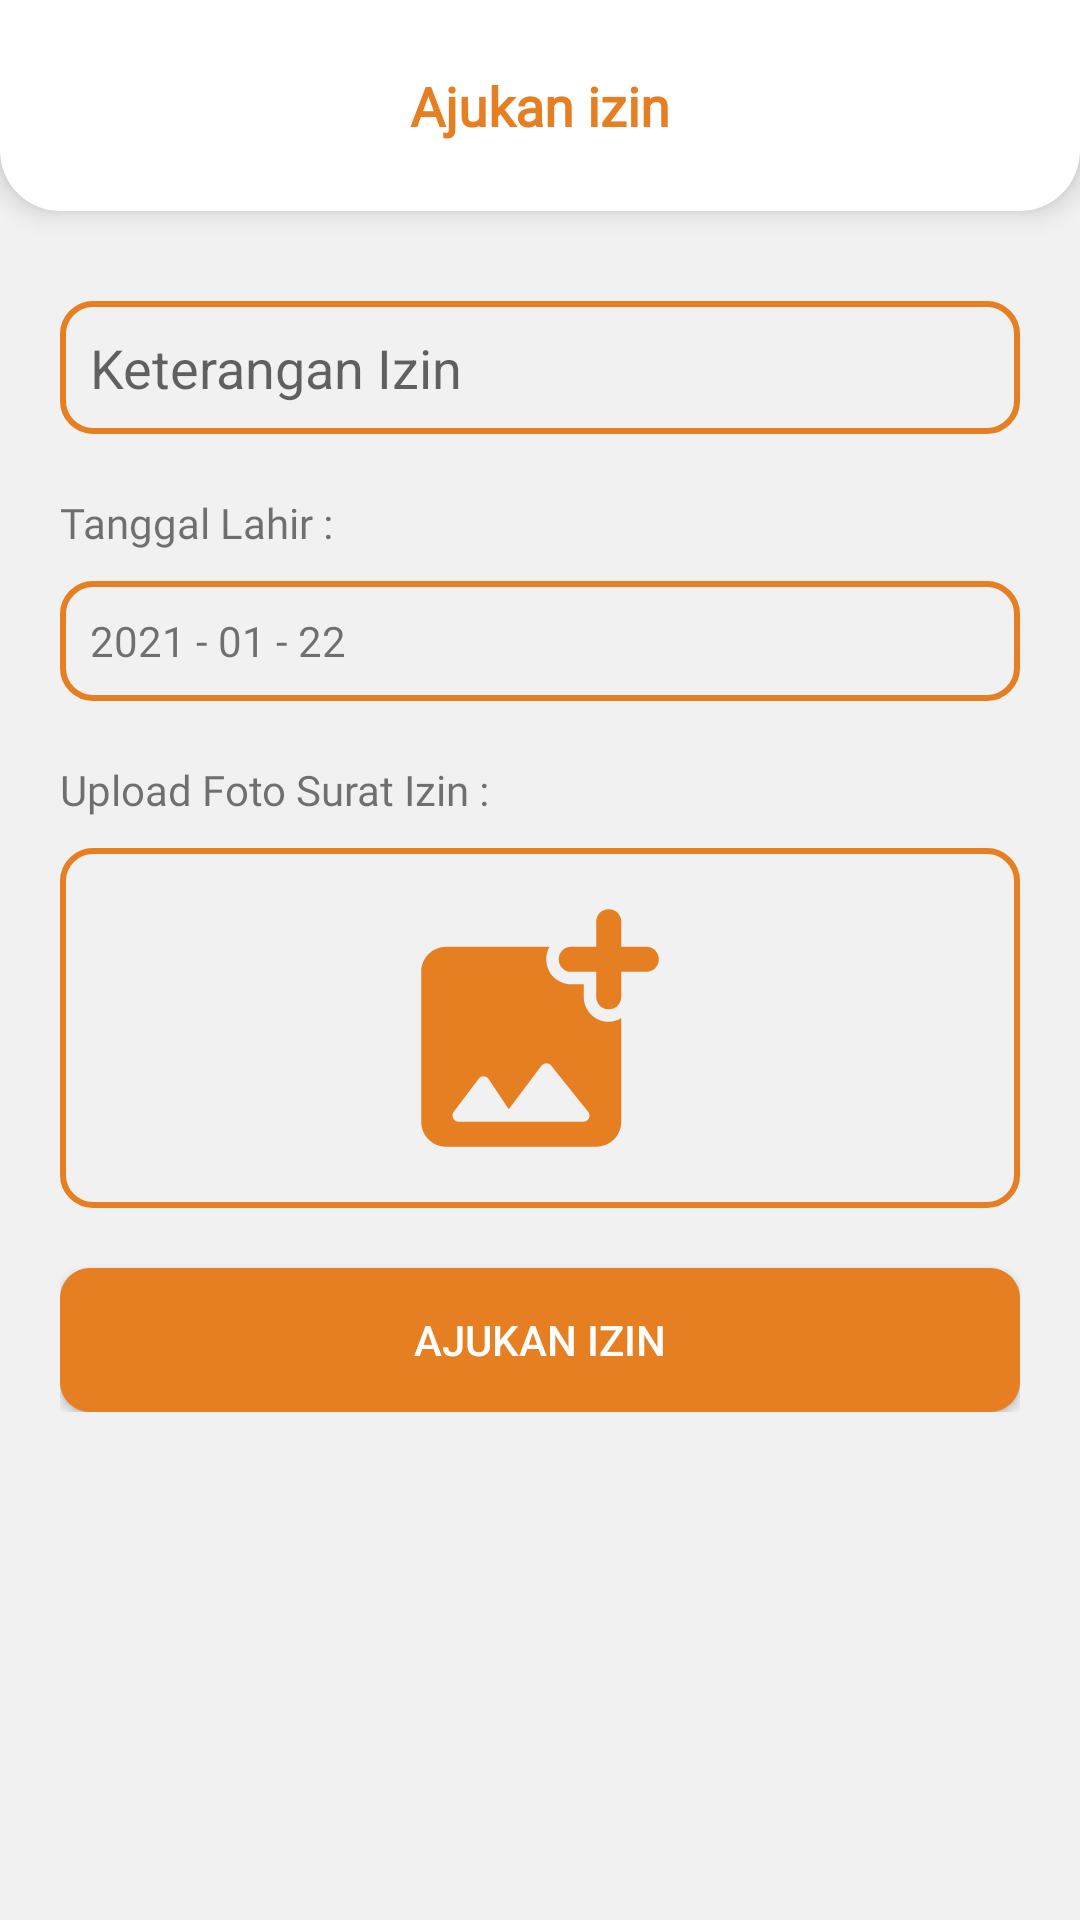

Point at icon controls on the screen. Image size 1080 × 1920, points as [x,y].
add photo alternate rounded: [540,1028]
